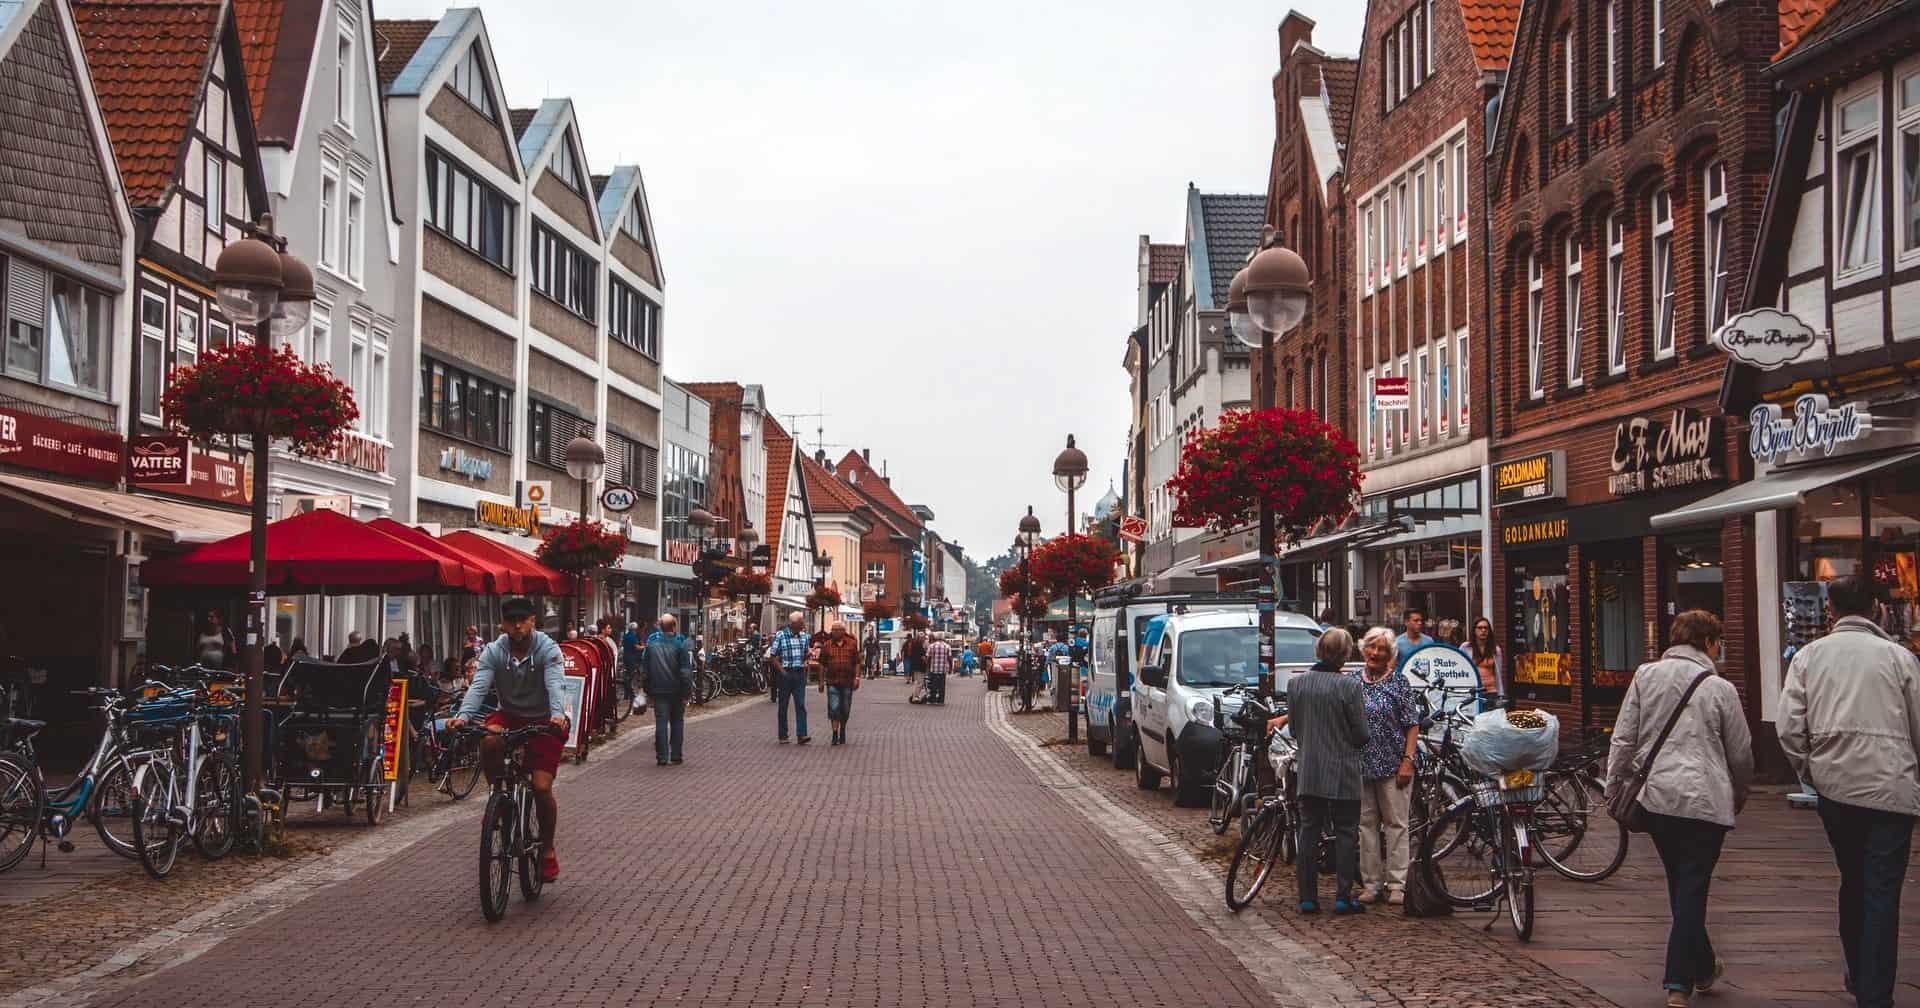person: (1590, 598, 1762, 1008), (1765, 574, 1920, 1008), (449, 598, 575, 885), (1291, 618, 1373, 922), (1347, 625, 1423, 907), (636, 607, 695, 775), (1456, 607, 1515, 744), (765, 601, 817, 751), (815, 618, 862, 753), (191, 603, 241, 685), (1391, 603, 1438, 683), (923, 629, 954, 707), (1065, 624, 1101, 692), (1041, 633, 1073, 692), (858, 622, 882, 681), (897, 627, 917, 686), (978, 631, 995, 675), (960, 640, 977, 675)
